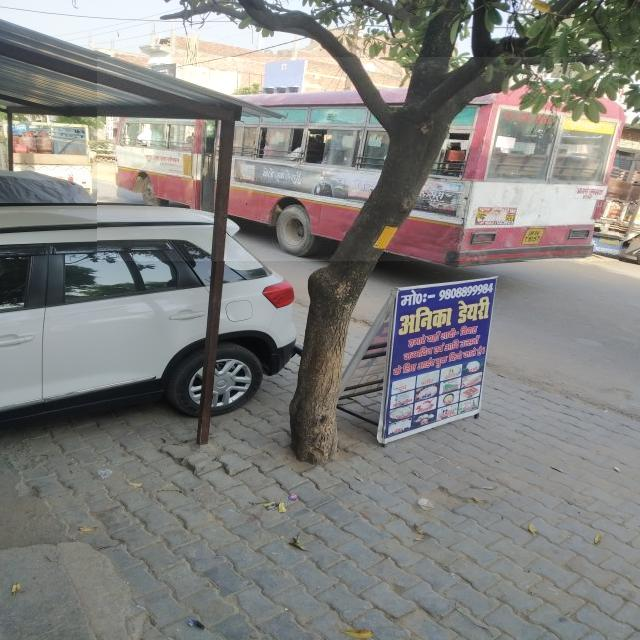Bus: (98, 58, 620, 262)
